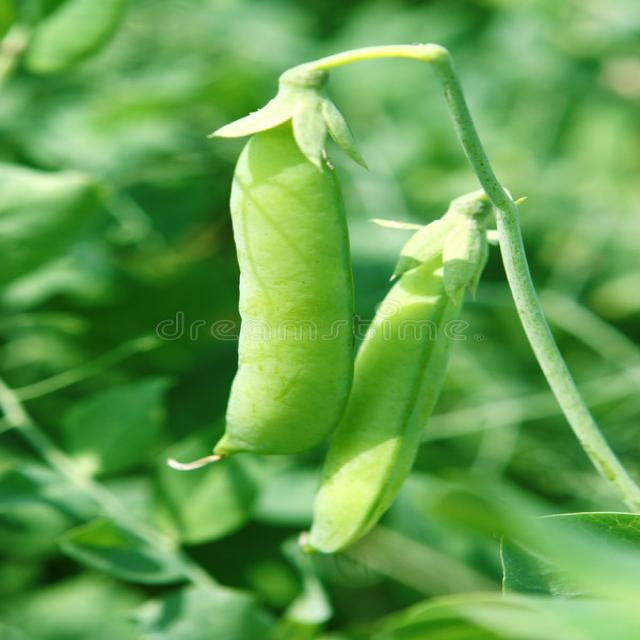pea: (292, 193, 490, 558), (197, 66, 361, 477)
